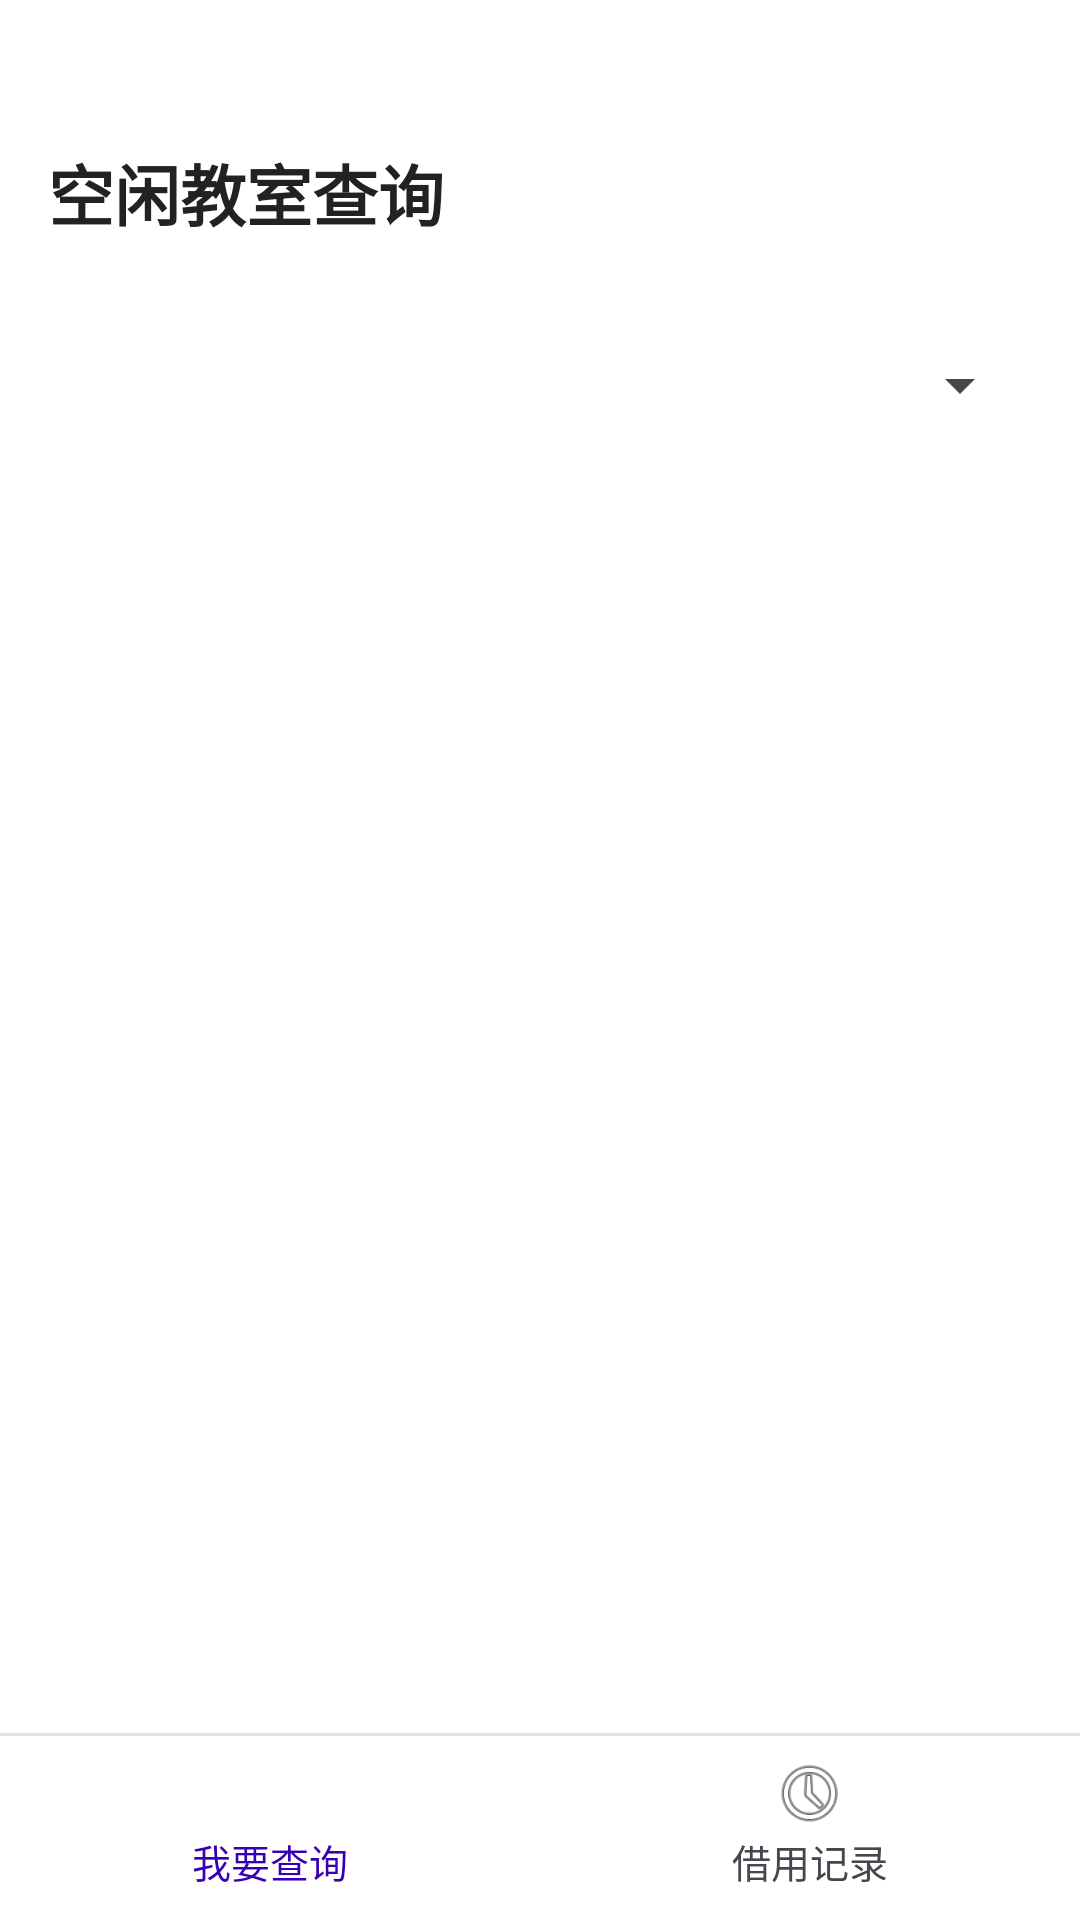

Icons on this 1080px×1920px Android screen, each with its box as (x1, y1, x2, y2):
recent history: (781, 1765, 838, 1822)
